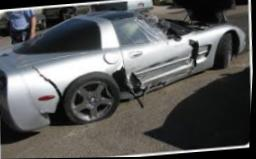Bumper: (10, 61, 62, 128)
Door: (114, 18, 195, 92)
